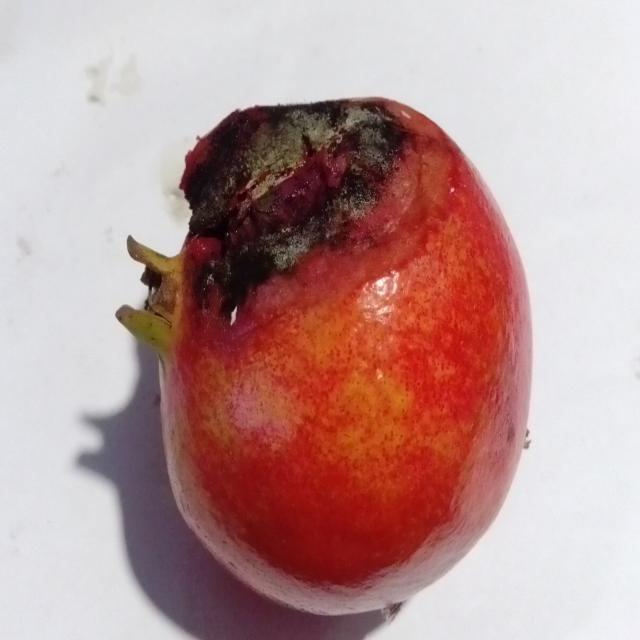Rotten: (116, 94, 534, 614)
